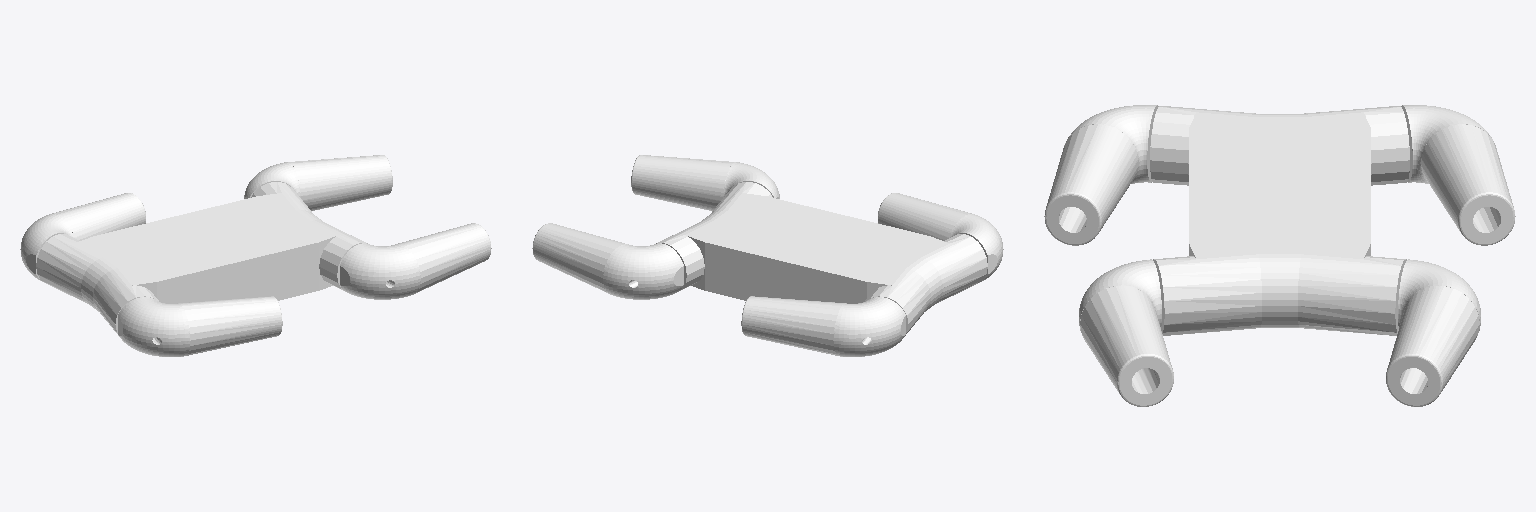
URDF robot description (11_degree):
<?xml version="1.0" encoding="utf-8"?>
<!-- This URDF was automatically created by SolidWorks to URDF Exporter! Originally created by [author] ([email redacted]) 
     Commit Version: 1.5.1-0-g916b5db  Build Version: 1.5.7152.31018
     For more information, please see http://wiki.ros.org/sw_urdf_exporter -->
<robot
  name="11_degree">
  <link
    name="base_link">
    <inertial>
      <origin
        xyz="3.4694E-17 2.7487E-08 -1.7347E-18"
        rpy="0 0 0" />
      <mass
        value="2.942" />
      <inertia
        ixx="0.0101423"
        ixy="2.3525E-18"
        ixz="-1.5276E-10"
        iyy="0.0415884"
        iyz="2.19E-18"
        izz="0.0493376" />
    </inertial>
    <visual>
      <origin
        xyz="0 0 0"
        rpy="0 0 0" />
      <geometry>
        <mesh
          filename="package://11_degree/meshes/base_link.STL" />
      </geometry>
      <material
        name="">
        <color
          rgba="1 1 1 1" />
      </material>
    </visual>
    <collision>
      <origin
        xyz="0 0 0"
        rpy="0 0 0" />
      <geometry>
        <mesh
          filename="package://11_degree/meshes/base_link.STL" />
      </geometry>
    </collision>
  </link>
  <link
    name="left_front_link">
    <inertial>
      <origin
        xyz="-1.6225E-09 0.062657 -0.024505"
        rpy="0 0 0" />
      <mass
        value="0.092" />
      <inertia
        ixx="0.0002604"
        ixy="6.3745E-10"
        ixz="9.3337E-10"
        iyy="0.0000516"
        iyz="-1.74E-05"
        izz="0.0002586" />
    </inertial>
    <visual>
      <origin
        xyz="0 0 0"
        rpy="0 0 0" />
      <geometry>
        <mesh
          filename="package://11_degree/meshes/left_front_link.STL" />
      </geometry>
      <material
        name="">
        <color
          rgba="1 1 1 1" />
      </material>
    </visual>
    <collision>
      <origin
        xyz="0 0 0"
        rpy="0 0 0" />
      <geometry>
        <mesh
          filename="package://11_degree/meshes/left_front_link.STL" />
      </geometry>
    </collision>
  </link>
  <joint
    name="left_front_leg"
    type="continuous">
    <origin
      xyz="0.14965 0.10111 0"
      rpy="1.5708 1.5708 0" />
    <parent
      link="base_link" />
    <child
      link="left_front_link" />
    <axis
      xyz="0 0.19081 -0.98163" />
    <limit
      effort="5"
      velocity="487" />
  </joint>
  <link
    name="right_front_link">
    <inertial>
      <origin
        xyz="1.6225E-09 0.062657 0.024505"
        rpy="0 0 0" />
      <mass
        value="0.092" />
      <inertia
        ixx="0.0002604"
        ixy="-6.3745E-10"
        ixz="9.3337E-10"
        iyy="0.0000516"
        iyz="1.74E-05"
        izz="0.0002586" />
    </inertial>
    <visual>
      <origin
        xyz="0 0 0"
        rpy="0 0 0" />
      <geometry>
        <mesh
          filename="package://11_degree/meshes/right_front_link.STL" />
      </geometry>
      <material
        name="">
        <color
          rgba="1 1 1 1" />
      </material>
    </visual>
    <collision>
      <origin
        xyz="0 0 0"
        rpy="0 0 0" />
      <geometry>
        <mesh
          filename="package://11_degree/meshes/right_front_link.STL" />
      </geometry>
    </collision>
  </link>
  <joint
    name="right_front_leg"
    type="continuous">
    <origin
      xyz="0.14965 -0.10111 0"
      rpy="1.5708 1.5708 0" />
    <parent
      link="base_link" />
    <child
      link="right_front_link" />
    <axis
      xyz="0 0.19081 0.98163" />
    <limit
      effort="5"
      velocity="487" />
  </joint>
  <link
    name="right_back_link">
    <inertial>
      <origin
        xyz="3.1708E-09 0.05683 0.036011"
        rpy="0 0 0" />
      <mass
        value="0.092" />
      <inertia
        ixx="0.0002604"
        ixy="-5.3274E-10"
        ixz="5.8484E-10"
        iyy="0.0000526"
        iyz="-2.27E-05"
        izz="0.0002575" />
    </inertial>
    <visual>
      <origin
        xyz="0 0 0"
        rpy="0 0 0" />
      <geometry>
        <mesh
          filename="package://11_degree/meshes/right_back_link.STL" />
      </geometry>
      <material
        name="">
        <color
          rgba="1 1 1 1" />
      </material>
    </visual>
    <collision>
      <origin
        xyz="0 0 0"
        rpy="0 0 0" />
      <geometry>
        <mesh
          filename="package://11_degree/meshes/right_back_link.STL" />
      </geometry>
    </collision>
  </link>
  <joint
    name="right_back_leg"
    type="continuous">
    <origin
      xyz="-0.14965 -0.10111 0"
      rpy="1.7628 1.5708 0" />
    <parent
      link="base_link" />
    <child
      link="right_back_link" />
    <axis
      xyz="0 0 1" />
    <limit
      effort="5"
      velocity="487" />
  </joint>
  <link
    name="left_back_link">
    <inertial>
      <origin
        xyz="-3.1708E-09 0.048915 -0.046193"
        rpy="0 0 0" />
      <mass
        value="0.092" />
      <inertia
        ixx="0.0002604"
        ixy="6.3454E-10"
        ixz="4.7245E-10"
        iyy="0.0000686"
        iyz="0.0000594"
        izz="0.0002416" />
    </inertial>
    <visual>
      <origin
        xyz="0 0 0"
        rpy="0 0 0" />
      <geometry>
        <mesh
          filename="package://11_degree/meshes/left_back_link.STL" />
      </geometry>
      <material
        name="">
        <color
          rgba="1 1 1 1" />
      </material>
    </visual>
    <collision>
      <origin
        xyz="0 0 0"
        rpy="0 0 0" />
      <geometry>
        <mesh
          filename="package://11_degree/meshes/left_back_link.STL" />
      </geometry>
    </collision>
  </link>
  <joint
    name="left_back_leg"
    type="continuous">
    <origin
      xyz="-0.14965 0.10111 0"
      rpy="1.5708 1.5708 0" />
    <parent
      link="base_link" />
    <child
      link="left_back_link" />
    <axis
      xyz="0 -0.19081 -0.98163" />
    <limit
      effort="5"
      velocity="487" />
  </joint>
</robot>

--- Render facts (derived) ---
The picture shows the robot from 3 angles, left to right: view 1: azimuth 30°, elevation 25°; view 2: azimuth 150°, elevation 25°; view 3: azimuth 270°, elevation 25°; orthographic projection.
Model 11_degree with 5 links and 4 joints (4 continuous), rooted at base_link, posed all joints at 0.
Links seen in each view (by area): view 1: base_link, right_back_link, right_front_link, left_front_link, left_back_link; view 2: base_link, left_back_link, left_front_link, right_front_link, right_back_link; view 3: base_link, right_back_link, left_back_link, left_front_link, right_front_link.
Boxes of the visible links, bbox=[...] form: base_link: bbox=[36, 182, 367, 335]; right_back_link: bbox=[118, 296, 282, 356]; right_front_link: bbox=[340, 223, 491, 299]; left_front_link: bbox=[244, 155, 392, 210]; left_back_link: bbox=[20, 193, 145, 281]; base_link: bbox=[656, 182, 987, 335]; left_back_link: bbox=[741, 296, 905, 356]; left_front_link: bbox=[532, 223, 683, 299]; right_front_link: bbox=[631, 155, 779, 210]; right_back_link: bbox=[878, 193, 1003, 281]; base_link: bbox=[1150, 106, 1409, 335]; right_back_link: bbox=[1044, 105, 1158, 245]; left_back_link: bbox=[1401, 105, 1515, 245]; left_front_link: bbox=[1386, 259, 1480, 406]; right_front_link: bbox=[1079, 259, 1173, 406].
Bounding box of the posed robot: 0.4992 × 0.3881 × 0.064 m (x, y, z).
Meshes: 5 distinct files referenced, 5 mesh visuals loaded (5 binary STL).